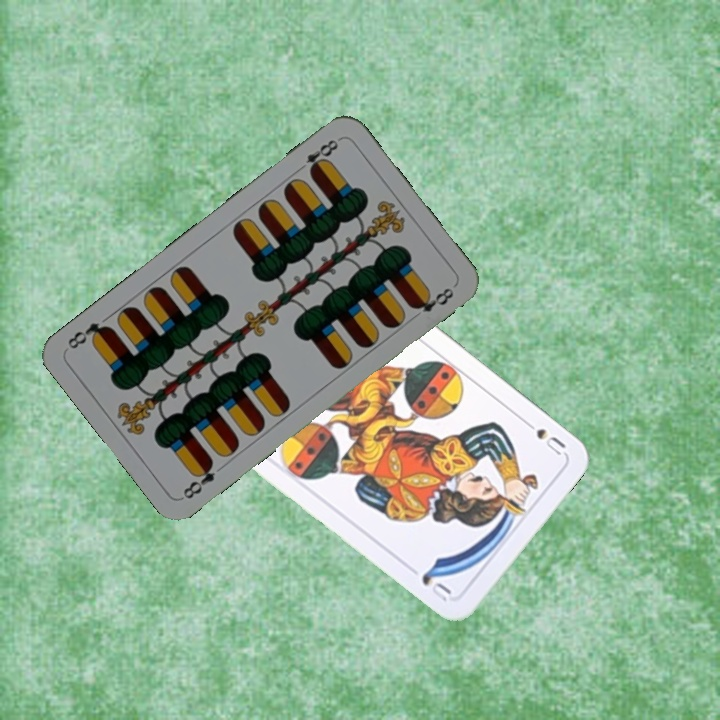E8: (292, 135, 341, 177), (179, 455, 218, 502)
SU: (517, 414, 569, 458)
